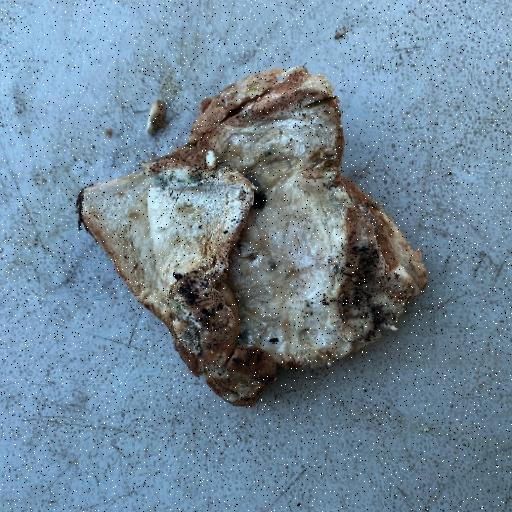Waste: (75, 64, 429, 408)
